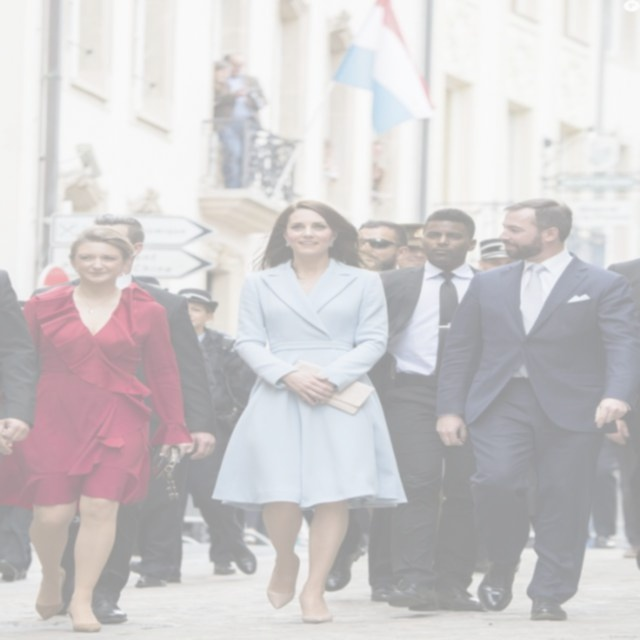pessoa: (434, 197, 639, 626), (202, 198, 396, 630), (2, 225, 196, 632), (23, 212, 210, 626), (370, 207, 490, 613), (532, 227, 639, 585), (320, 220, 413, 604), (128, 274, 228, 591), (170, 286, 258, 576), (8, 264, 44, 592), (399, 217, 518, 280), (215, 54, 268, 190), (215, 61, 247, 185)
